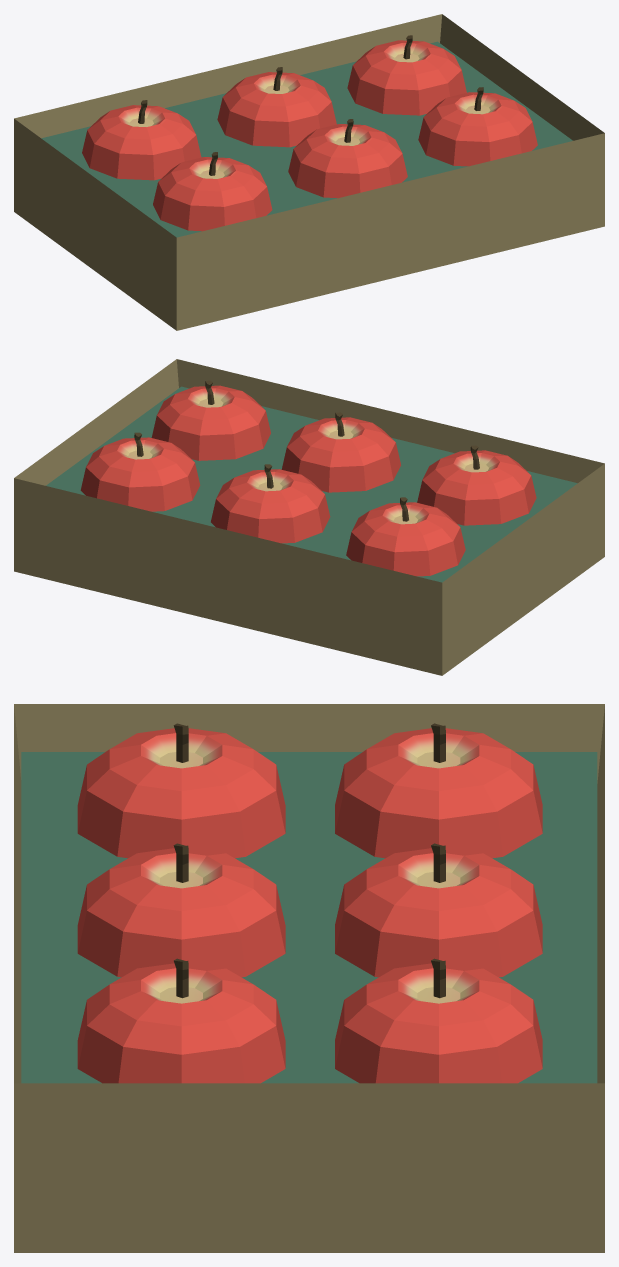
The model's file is apple_box1.fbx.
The picture shows the model from 3 angles, top to bottom: view 1: azimuth 30°, elevation 25°; view 2: azimuth 150°, elevation 25°; view 3: azimuth 270°, elevation 25°; orthographic projection. The views are drawn at different scales.
Visible parts, largest first — view 1: apple_box; view 2: apple_box; view 3: apple_box.
Part boxes in pixels (bbox=[...]): apple_box: bbox=[14, 14, 604, 330]; apple_box: bbox=[14, 359, 604, 675]; apple_box: bbox=[14, 704, 604, 1252].
Bounding box in the file's own units: 120 × 33.14 × 79.
4 materials, 1 textured.
